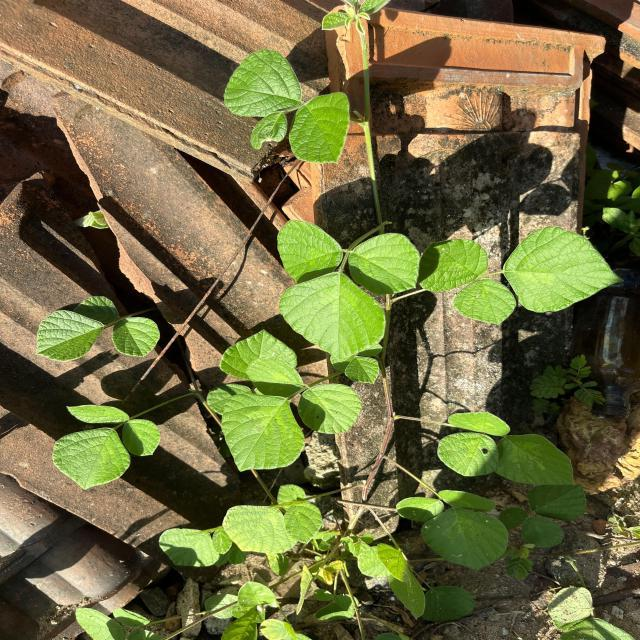Pseudarthria viscida: (275, 219, 421, 364), (419, 225, 626, 326), (220, 356, 364, 473), (436, 411, 575, 486), (52, 403, 162, 491), (394, 489, 510, 572)
